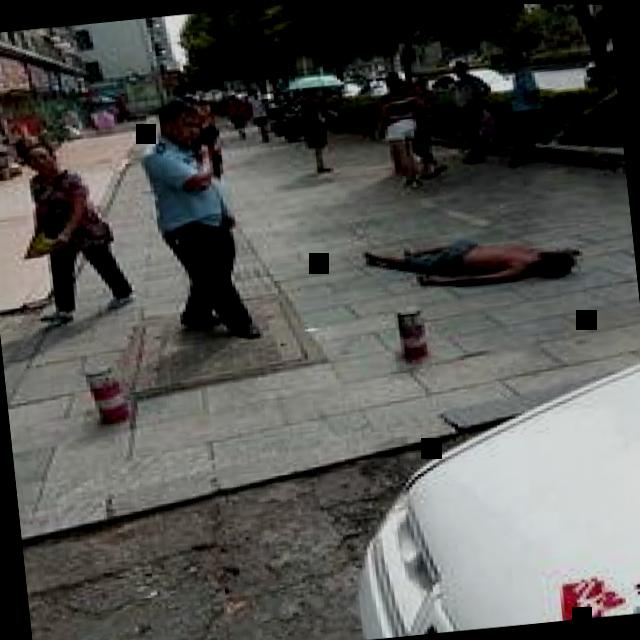Fall-Detected: (336, 203, 578, 297)
